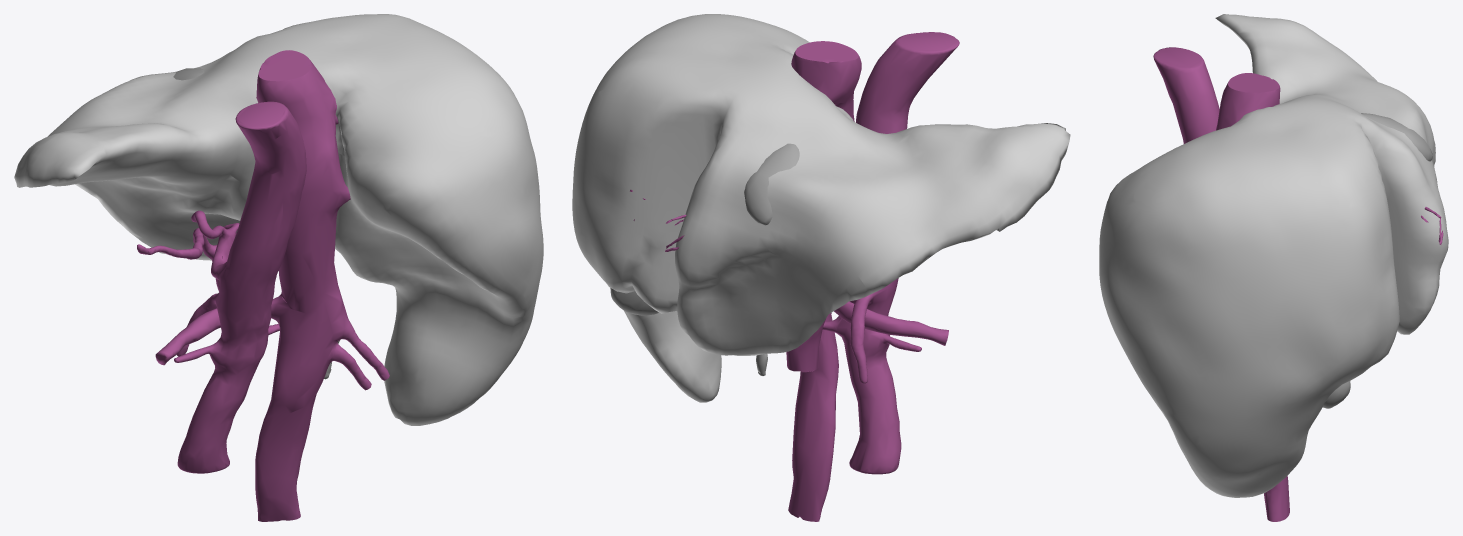
File: Final_Liver_Lowpoly.FBX
3 views of the same model, side by side, from view 1: azimuth 30°, elevation 25°; view 2: azimuth 150°, elevation 25°; view 3: azimuth 270°, elevation 25° (orthographic). The views are drawn at different scales.
Visible parts, largest first — view 1: liverto3dCoat, Vena Cava gespreizt, Aorta gespreizt, Pfortader gespreizt; view 2: liverto3dCoat, Aorta gespreizt, Vena Cava gespreizt, Tumor groß verschoben, Pfortader gespreizt, Gallenblase verschoben; view 3: liverto3dCoat, Aorta gespreizt, Vena Cava gespreizt, Tumor groß verschoben.
Part boxes in pixels (x1,y1,x2,y2): liverto3dCoat: (14,14,543,425); Vena Cava gespreizt: (155,50,389,521); Aorta gespreizt: (174,101,306,473); Pfortader gespreizt: (137,228,236,291); liverto3dCoat: (572,14,1070,402); Aorta gespreizt: (643,32,959,474); Vena Cava gespreizt: (788,41,948,521); Tumor groß verschoben: (744,143,799,225); Pfortader gespreizt: (630,189,825,372); Gallenblase verschoben: (610,288,767,375); liverto3dCoat: (1099,14,1448,497); Aorta gespreizt: (1153,47,1443,244); Vena Cava gespreizt: (1216,73,1289,521); Tumor groß verschoben: (1361,113,1432,161).
Bounding box in the file's own units: 9046 × 8567 × 6307.
